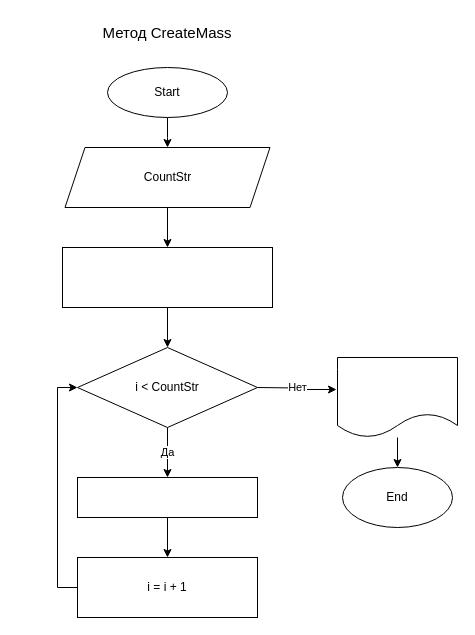
Some shapes in this 475 by 635 pixel diagram are drawn without their labels. Here are the shapes that lost their labels. From the top down, the centre of each, then its label:
pixel 167 277: string[] Array = new string[CountStr]; i = 0
pixel 397 397: Array
pixel 167 497: Array[i] = Console.ReadLIne()!
